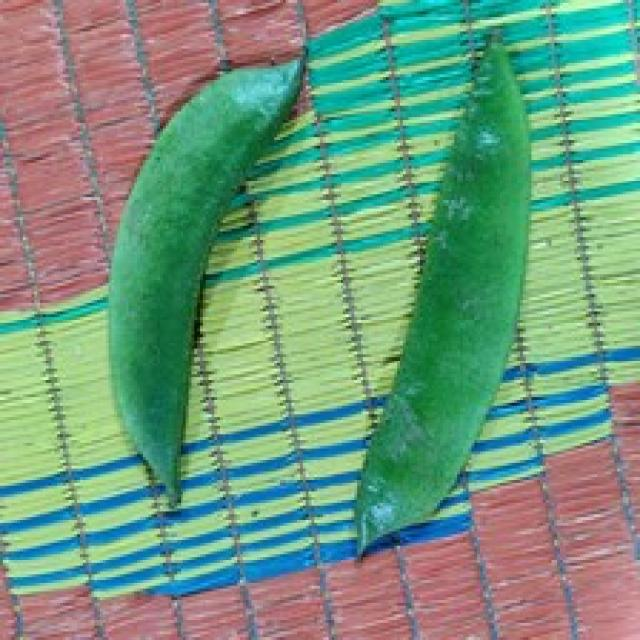Bean: (352, 26, 532, 560), (106, 51, 306, 508)
